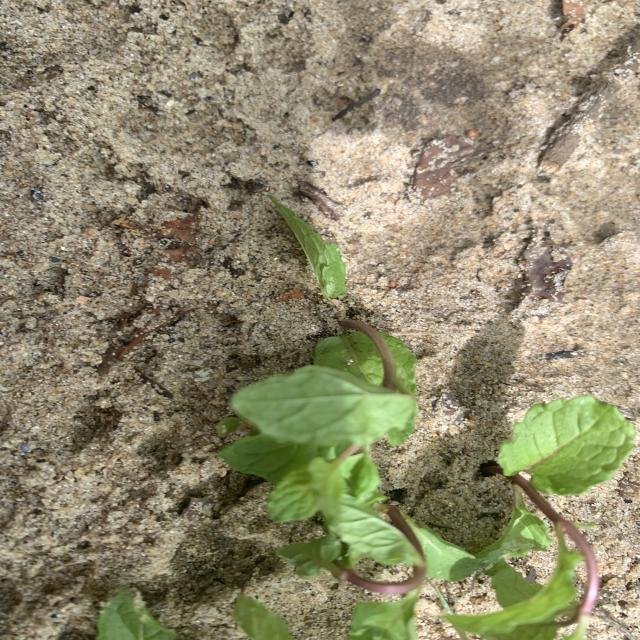crop: (449, 396, 633, 639), (219, 320, 418, 522), (278, 495, 475, 640), (273, 199, 347, 299), (98, 591, 175, 639), (233, 596, 291, 639)
